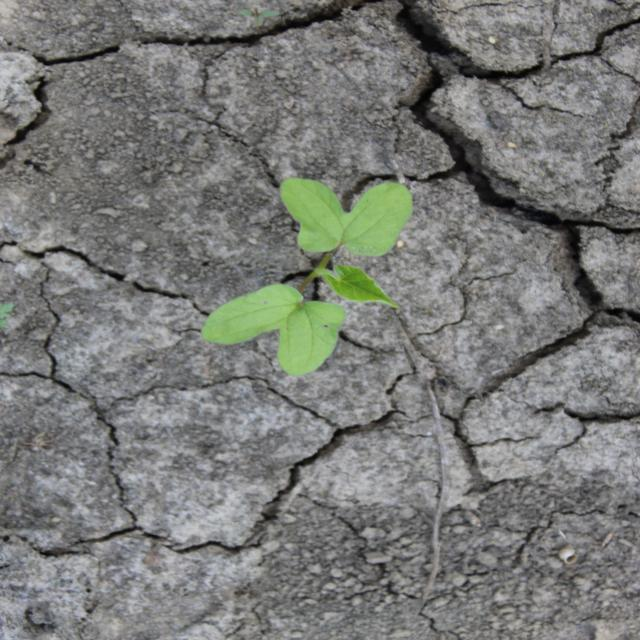MorningGlory: (198, 174, 416, 377)
